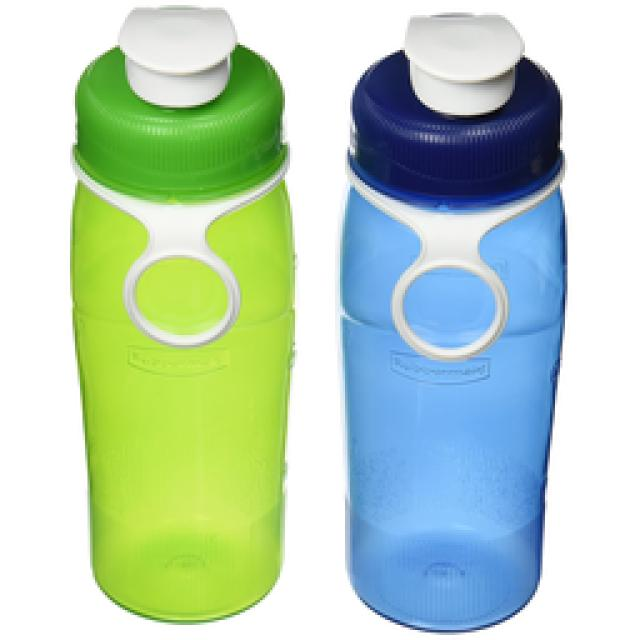plastic: (70, 6, 296, 625), (341, 15, 567, 629)
